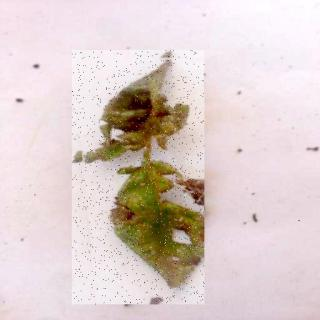Brown Blight: (73, 51, 205, 305)
